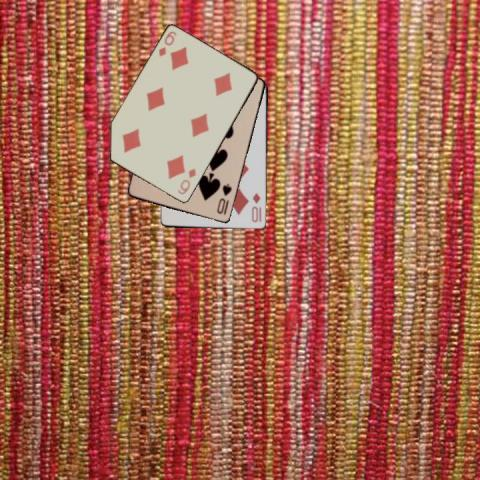10d: (249, 191, 262, 224)
10s: (214, 182, 233, 215)
6d: (155, 28, 178, 58), (175, 165, 197, 196)
